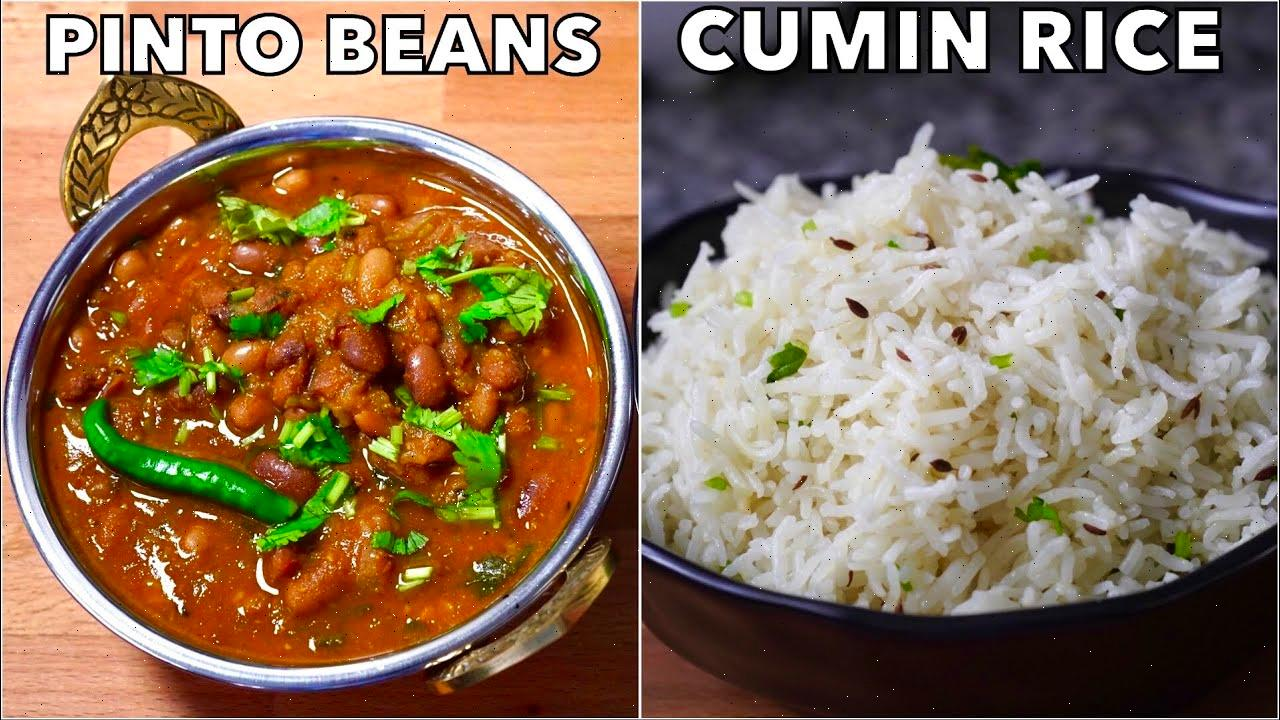rajma: (62, 162, 578, 618)
rice: (648, 156, 1280, 596)
